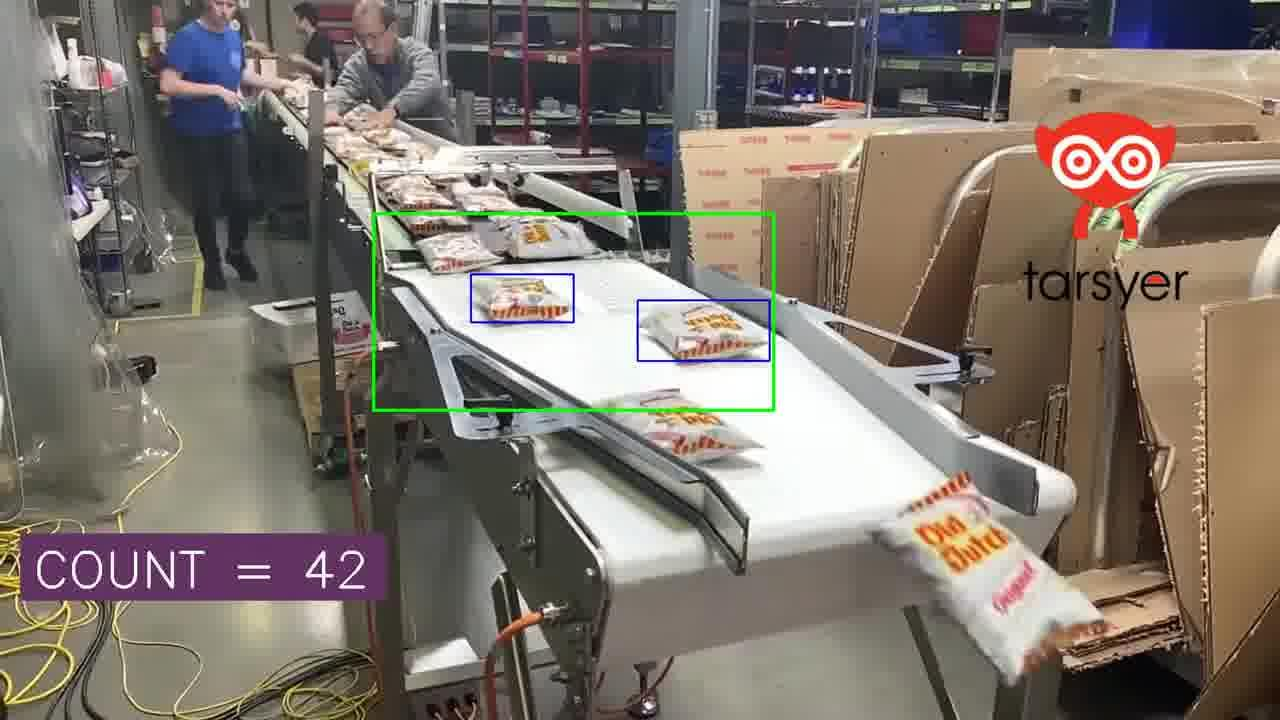Snack: (873, 472, 1104, 684), (602, 389, 760, 462), (641, 302, 768, 359), (501, 216, 597, 259), (474, 277, 569, 319), (416, 233, 499, 271), (382, 175, 453, 209), (401, 214, 469, 236), (490, 206, 546, 230), (332, 134, 379, 159), (450, 181, 506, 200), (362, 128, 410, 149), (459, 195, 518, 211), (342, 104, 376, 131), (405, 142, 436, 162), (324, 125, 351, 141)
